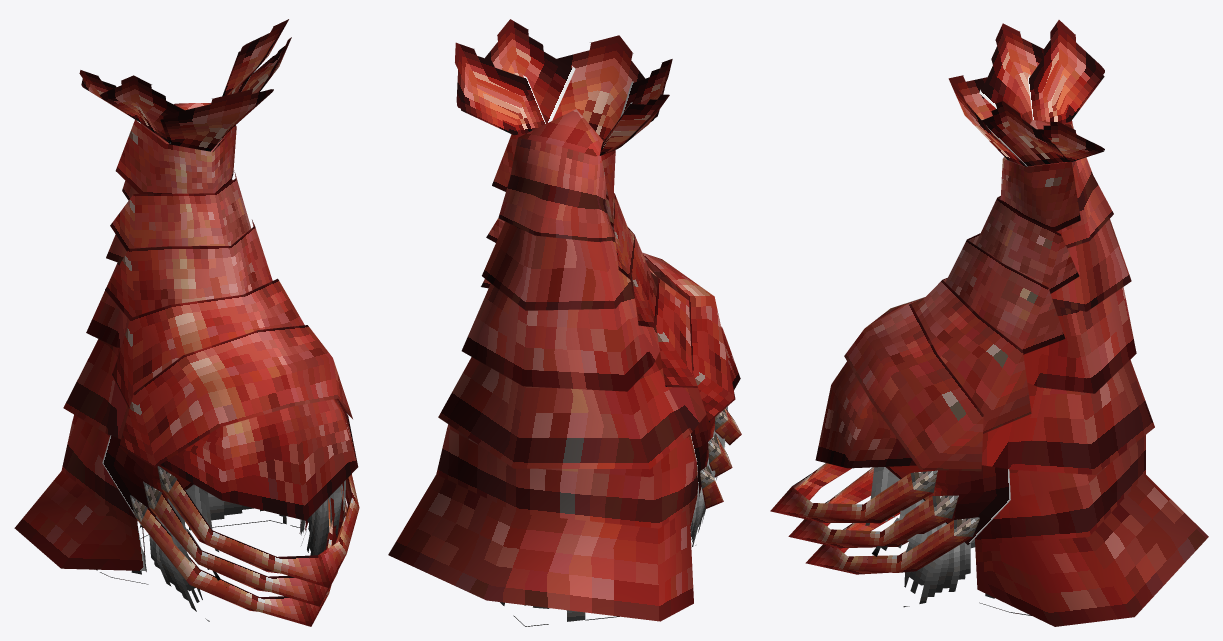
File: m_hair218.glb
3 renders of one model, left to right at view 1: azimuth 30°, elevation 25°; view 2: azimuth 150°, elevation 25°; view 3: azimuth 270°, elevation 25°, orthographic. The views are drawn at different scales.
Size of the model in its own units: 23.55 by 44.95 by 33.56.
Materials: 1 (1 with a texture image).
